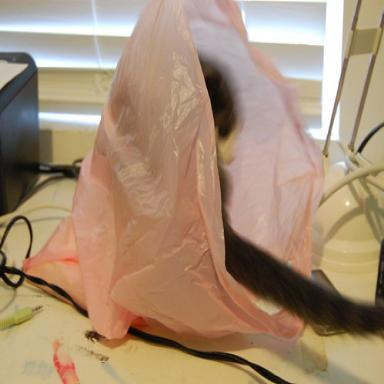cat: (122, 40, 384, 338)
